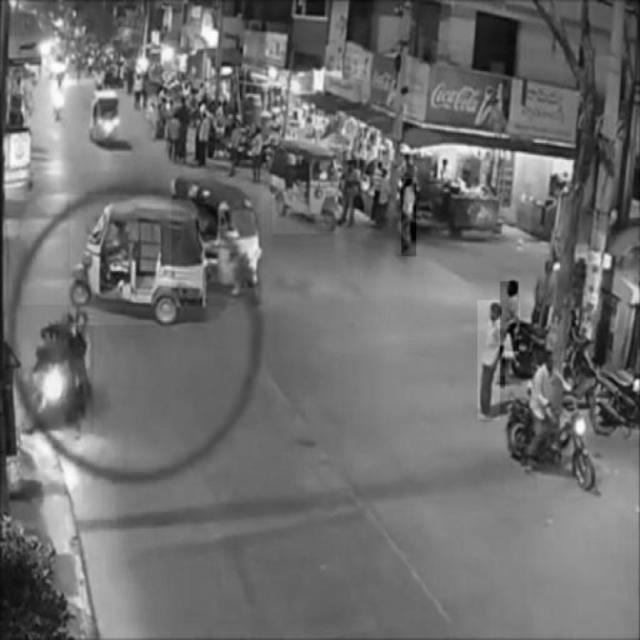person: (478, 301, 500, 421), (500, 281, 518, 389), (402, 179, 417, 256)
vehicle: (70, 196, 206, 326), (505, 352, 595, 496), (171, 175, 261, 306), (21, 305, 94, 433), (273, 139, 339, 233)
